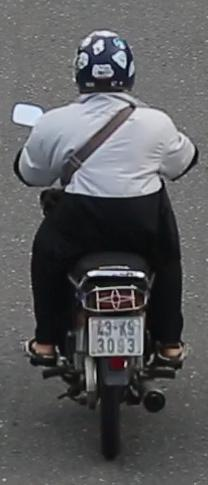LP: (83, 311, 148, 358)
helmet: (69, 25, 142, 100)
